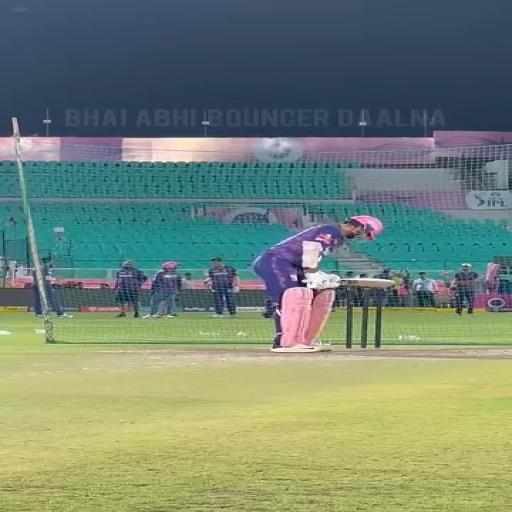Cricket bat: (340, 278, 391, 288)
